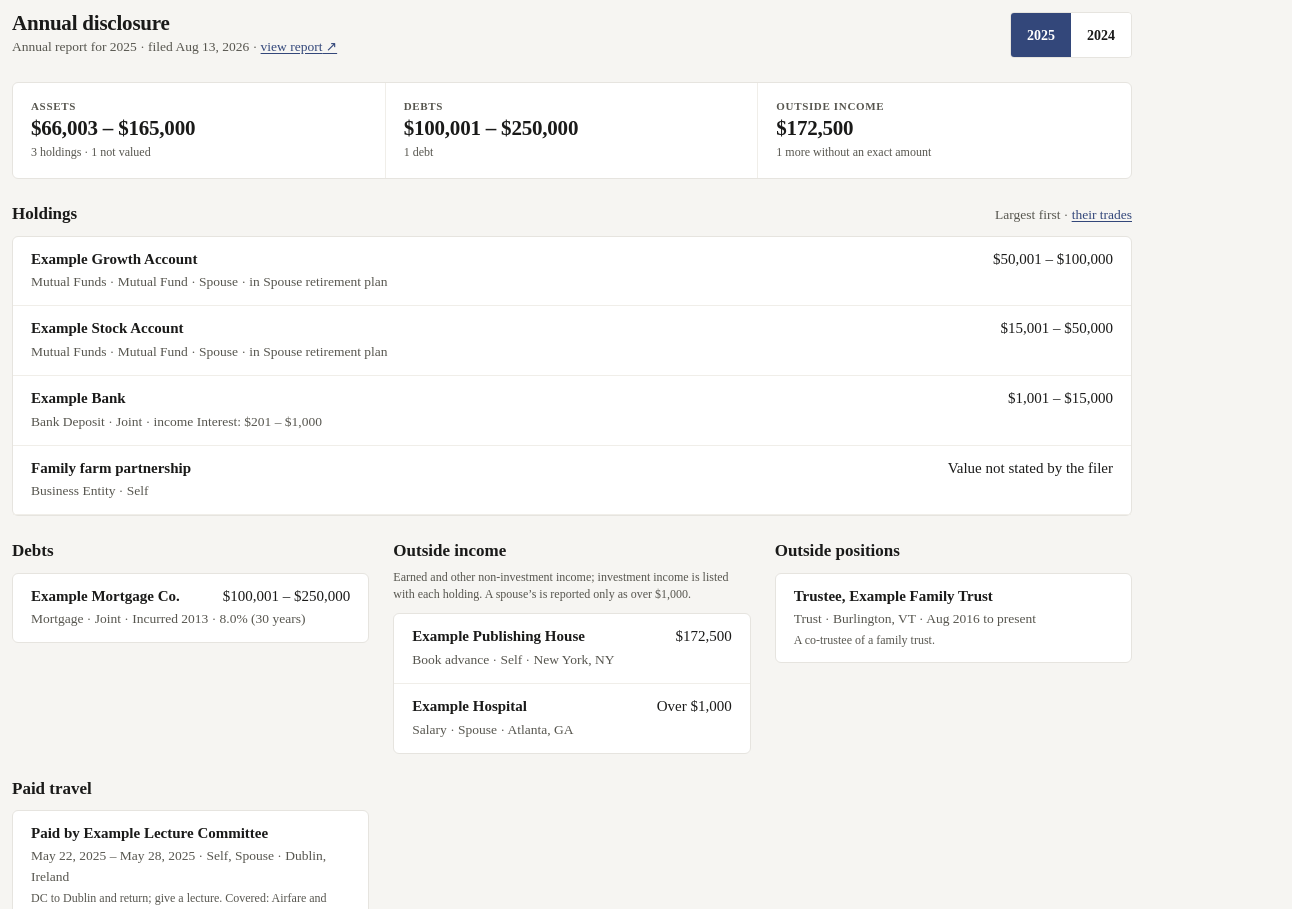
Scenario: annual disclosure: more than one year read › switches between the years read, newest first
Click the button "2024" at (1101,35), box 1071,13 -> 1131,57
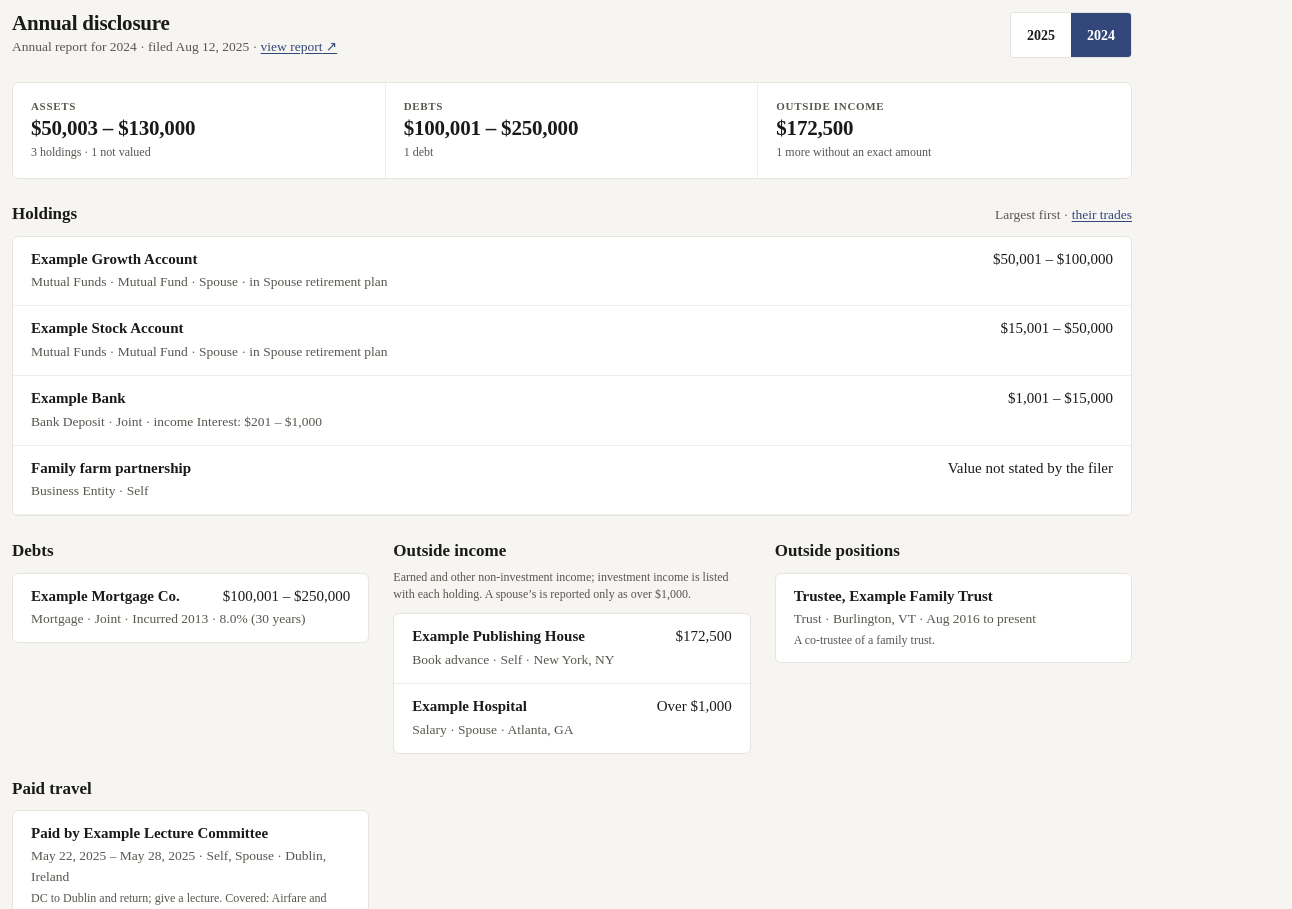
Check: the text "Annual report for 2024 · filed Aug 12, 2025 · view report ↗" is shown, box 12,37 -> 337,58
Check: the text "$50,003 – $130,000" is shown, box 31,116 -> 195,140
